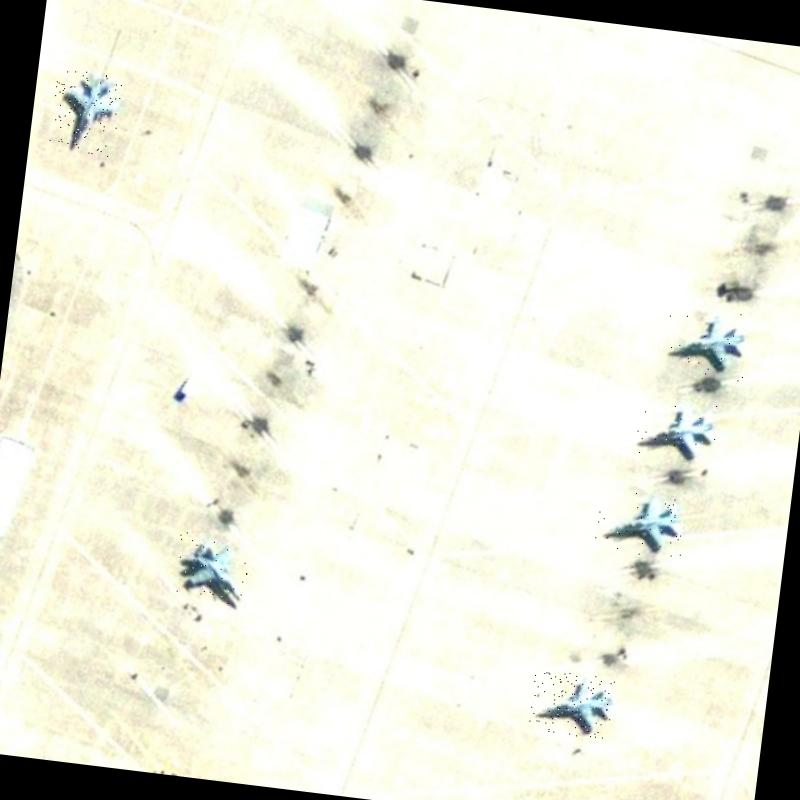A16: (656, 304, 752, 382), (626, 394, 718, 470), (48, 66, 123, 159), (593, 488, 687, 559), (528, 668, 616, 740), (170, 529, 251, 605)
